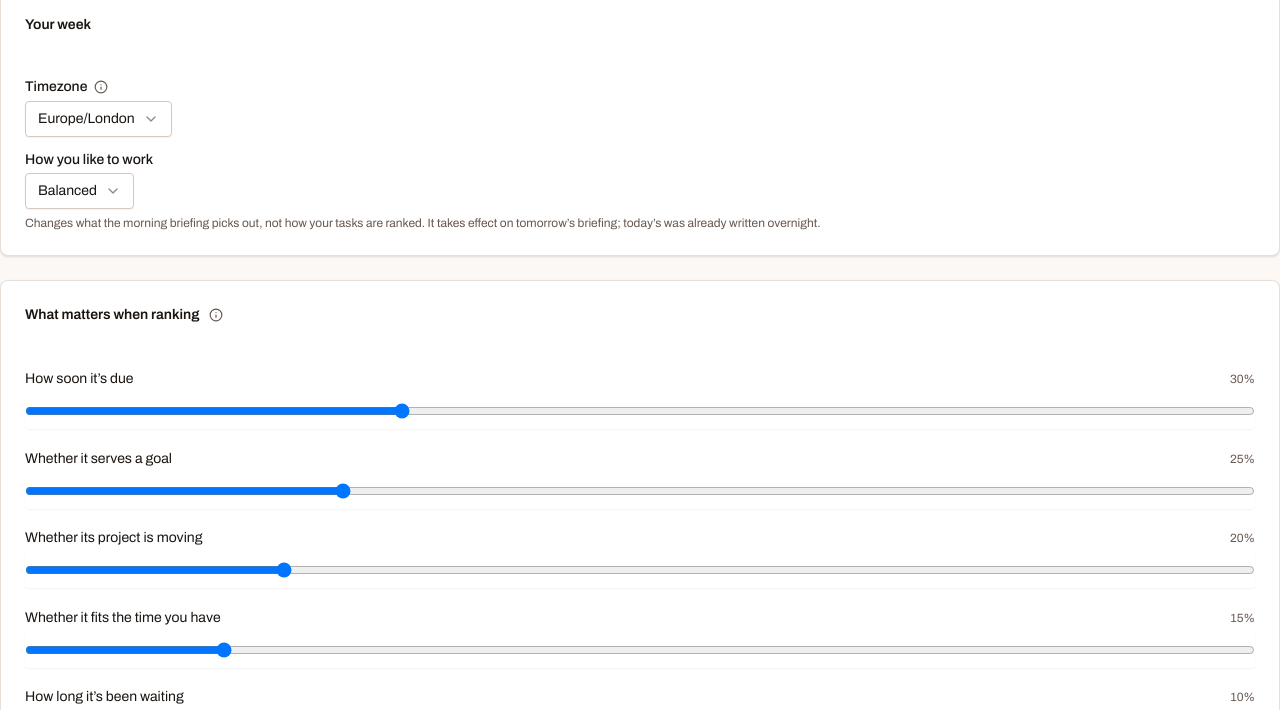
Test: SpaceSettingsForm › updates a ranking weight when its slider moves, reflected in the running total
Set the slider labelled "How soon it’s due" to "0.5" at (640, 411), box [25,393,1255,429]
(page scrolled)
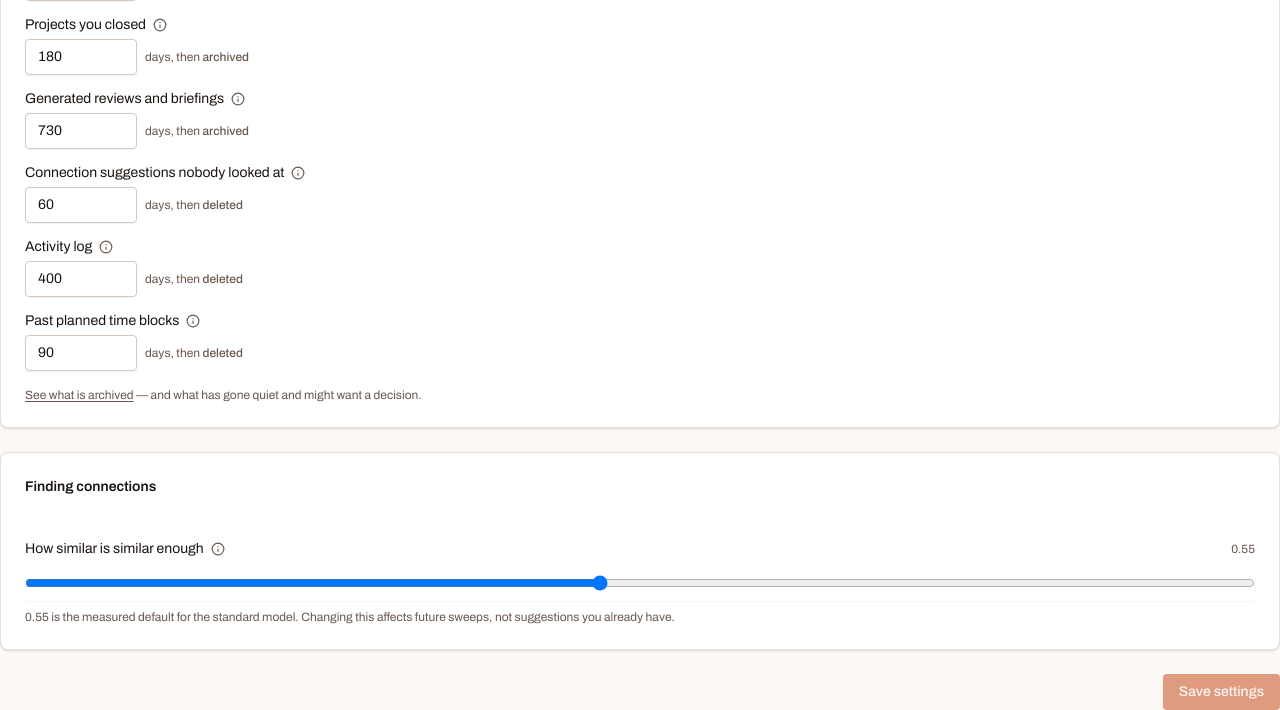
Check: the button "Save settings" is disabled, box [1163,674,1279,709]
